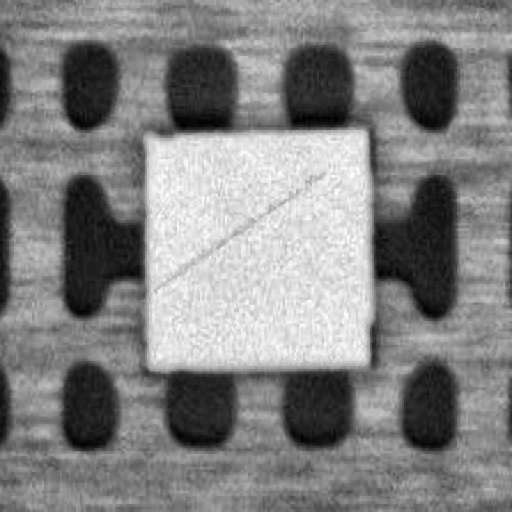DIE_CRACK: (228, 114, 483, 192)
